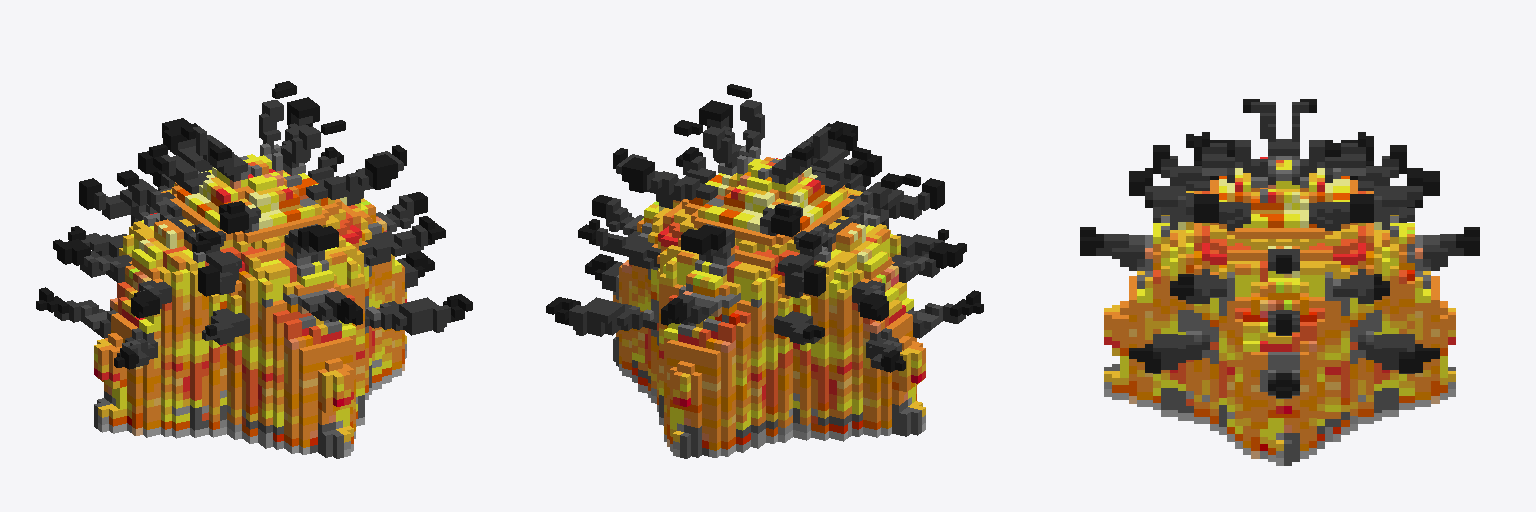
The picture shows the model from 3 angles: view 1: azimuth 30°, elevation 25°; view 2: azimuth 150°, elevation 25°; view 3: azimuth 270°, elevation 25°; orthographic projection.
Parts seen in each view (by area): view 1: object 1; view 2: object 1; view 3: object 1.
Boxes of the visible parts, <box> form: object 1: <box>36,81,472,458</box>; object 1: <box>546,84,983,458</box>; object 1: <box>1080,99,1479,465</box>.
Size of the model in its own units: 5 by 3.7 by 4.9.
Materials: 1 (1 with a texture image).